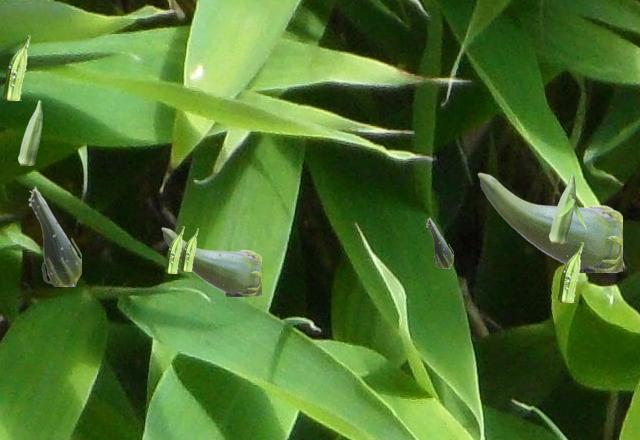okra: (477, 172, 621, 271), (161, 227, 260, 295), (28, 186, 80, 285), (549, 174, 574, 242), (3, 35, 29, 99), (18, 100, 41, 164), (558, 242, 582, 301), (426, 217, 452, 267), (165, 226, 183, 272), (181, 228, 197, 270)
